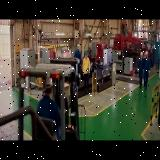Helmet: (42, 77, 54, 86), (145, 50, 149, 56), (85, 50, 88, 56), (76, 44, 80, 47), (140, 52, 143, 55)
